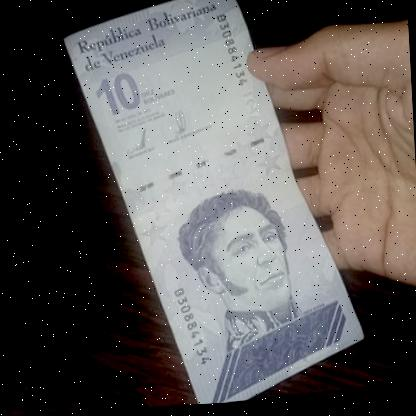ten-front-vef: (56, 0, 392, 413)
